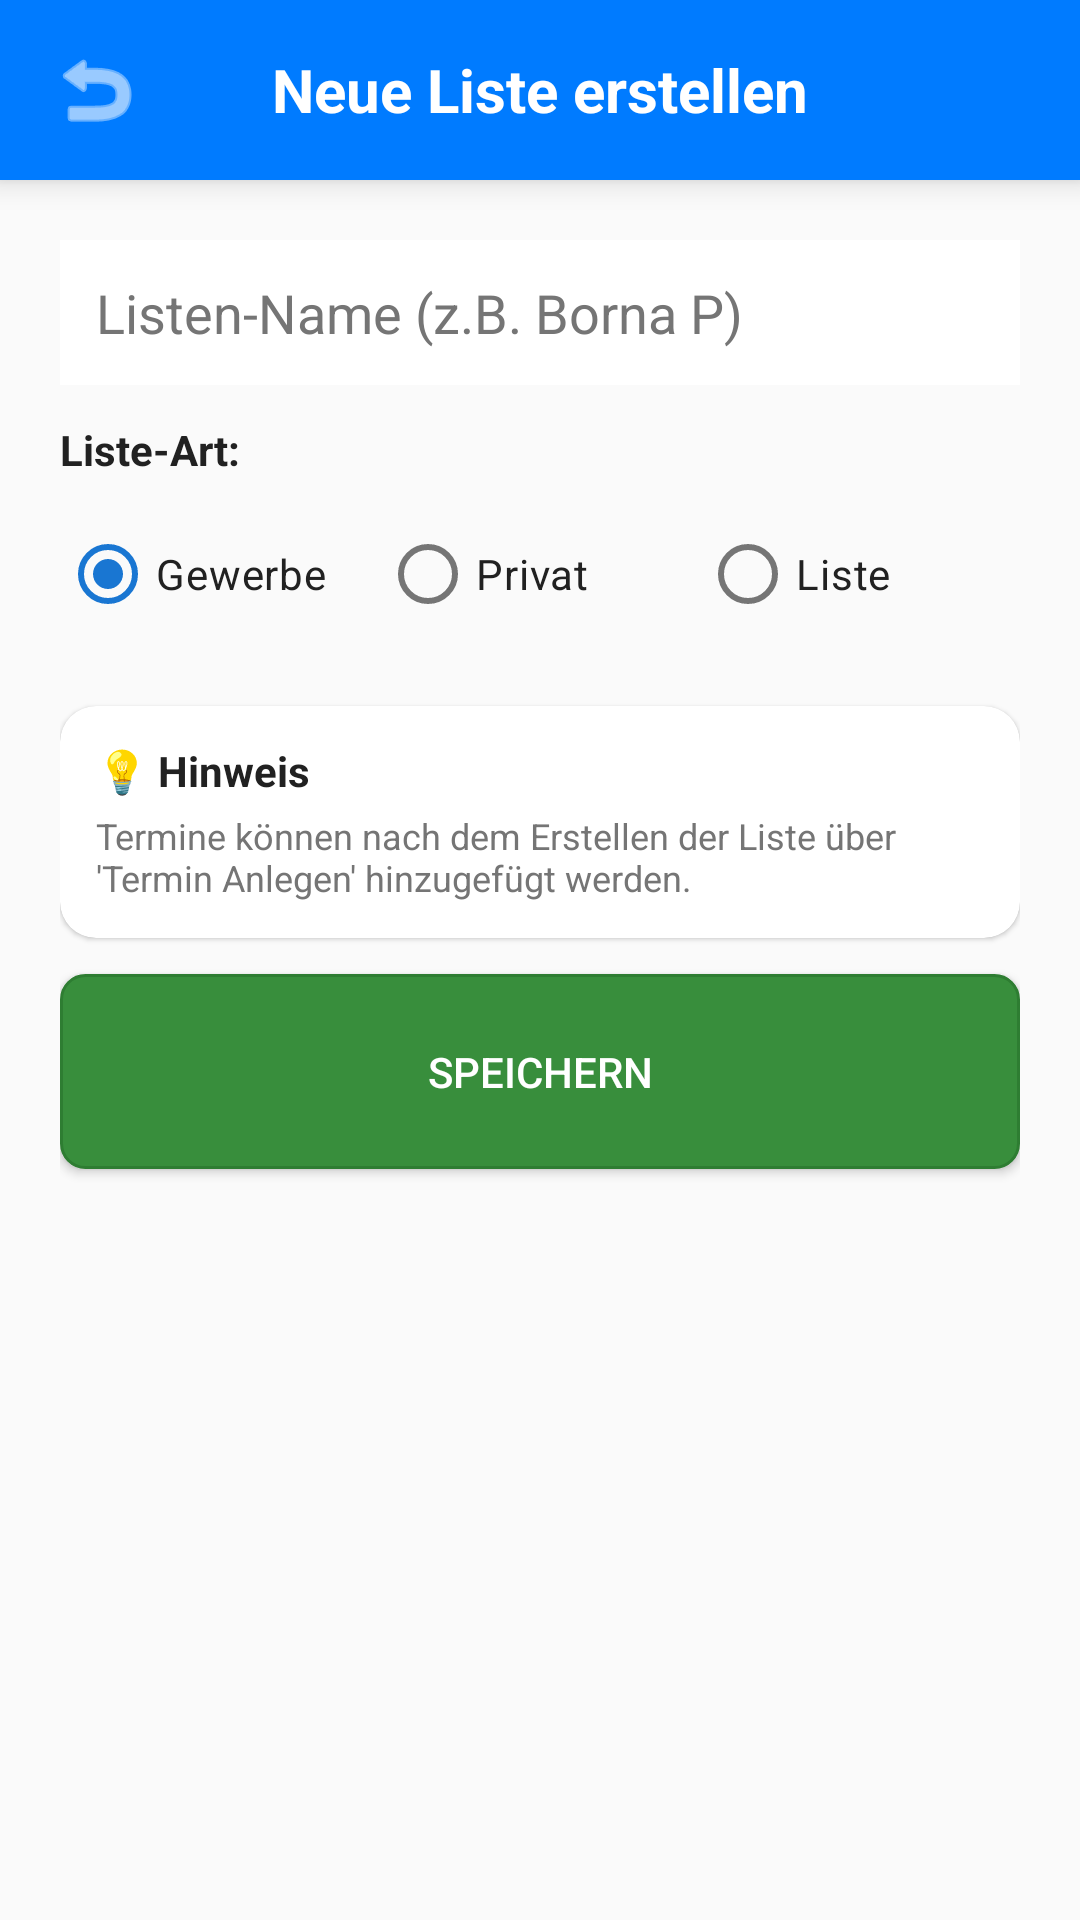

Named icons in this screenshot (1080x1920) and their bounding boxes, (x1, y1, x2, y2):
Zurück: (63, 59, 132, 122)
